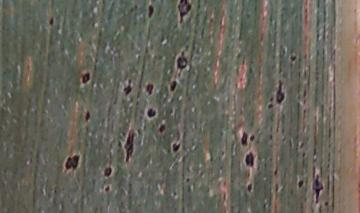tarspot: (122, 127, 137, 165), (173, 1, 194, 27), (311, 170, 323, 208), (61, 151, 82, 172), (173, 50, 190, 73), (241, 149, 258, 170), (274, 77, 286, 106), (121, 76, 134, 99), (144, 2, 157, 22), (169, 138, 183, 155), (143, 80, 156, 98), (100, 164, 115, 179), (145, 105, 159, 120), (80, 68, 91, 86), (83, 105, 92, 126), (237, 131, 250, 145), (168, 78, 179, 93), (295, 176, 306, 191), (157, 120, 167, 136), (289, 51, 300, 65), (245, 179, 254, 195), (46, 15, 57, 28), (102, 183, 114, 194), (250, 131, 257, 147), (322, 198, 330, 210)
